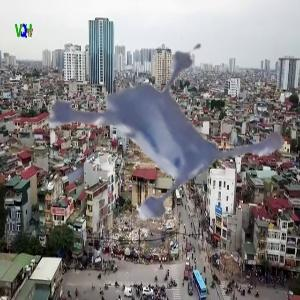drone: (1, 12, 260, 271)
